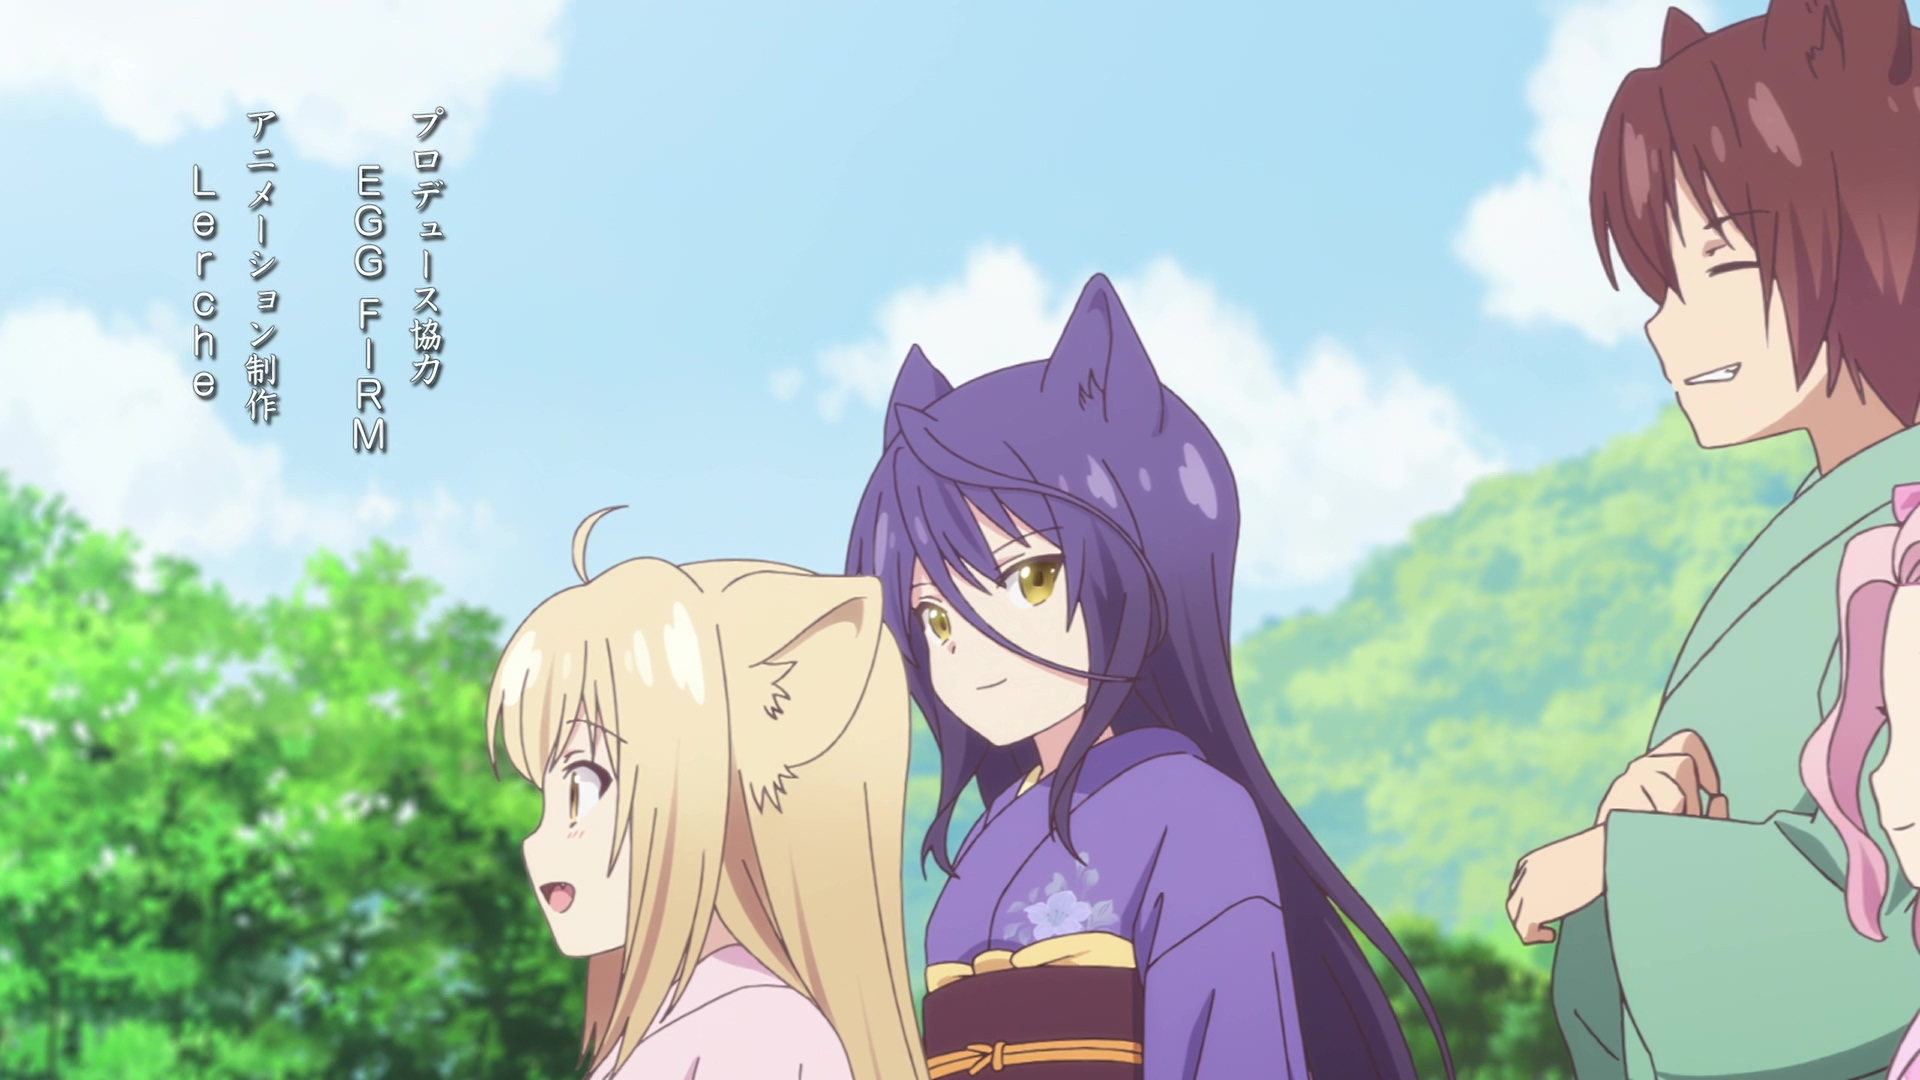枣: (1506, 1, 1920, 1080)
柚: (488, 504, 930, 1080)
皋: (845, 272, 1456, 1080)
